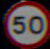Speed limit: (4, 3, 48, 43)
